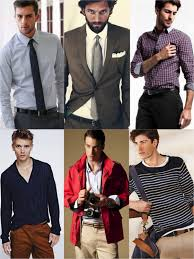F_belt: (140, 83, 184, 100), (11, 105, 59, 119)
F_dress pants: (134, 91, 189, 129)
F_shirt: (2, 30, 66, 123)
F_tie: (88, 36, 105, 90)
